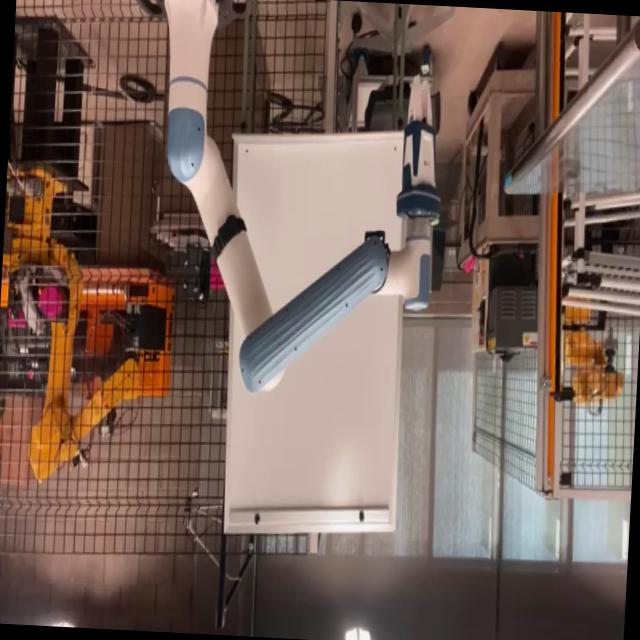robot: (113, 0, 451, 404)
